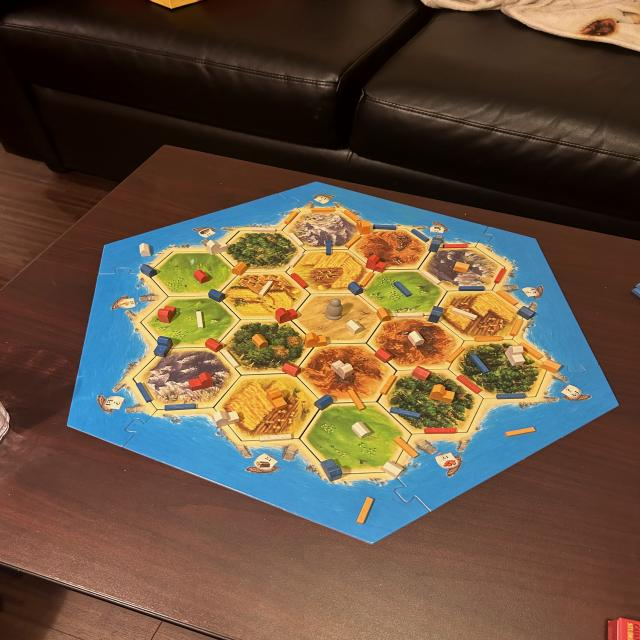tile: (299, 402, 411, 474), (213, 373, 324, 442), (377, 369, 483, 434), (133, 347, 241, 410), (294, 343, 396, 403), (448, 340, 548, 398), (215, 318, 315, 376), (367, 315, 464, 371), (141, 295, 241, 348), (290, 293, 384, 344), (433, 290, 525, 341), (217, 271, 311, 320), (148, 251, 241, 297), (356, 269, 447, 316), (285, 250, 375, 294), (418, 247, 505, 291), (218, 230, 305, 272), (348, 228, 433, 270), (282, 211, 365, 250)
